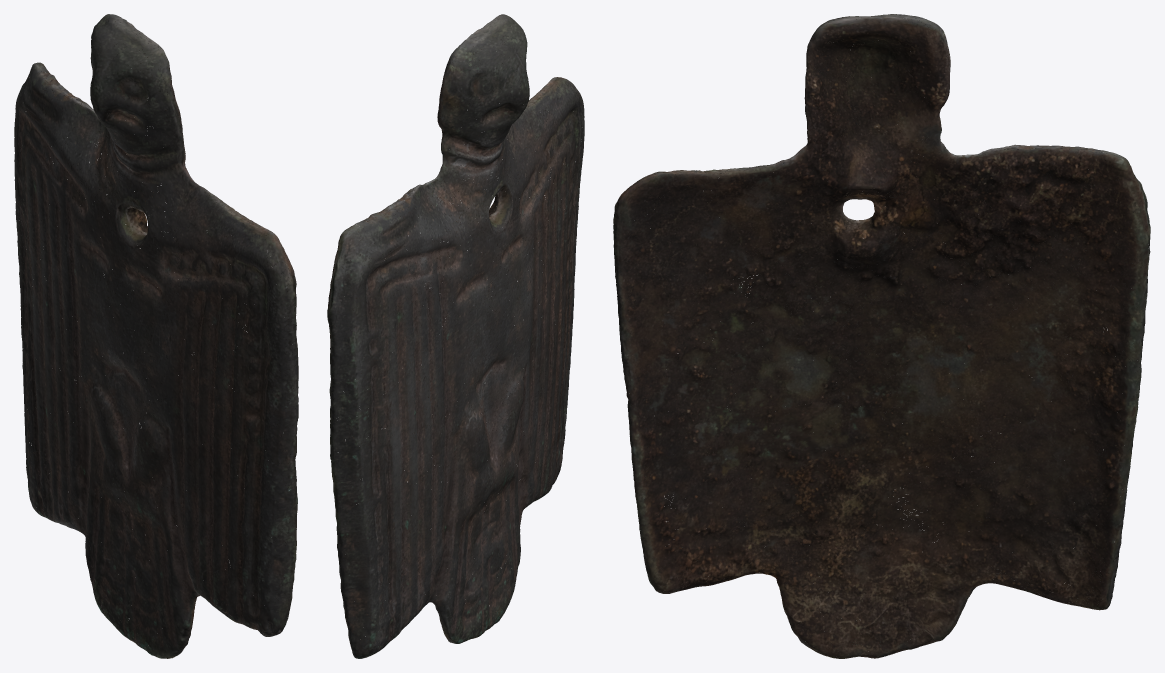
Rendered from bird2_low.glb.
3 renders of one model, left to right at view 1: azimuth 30°, elevation 25°; view 2: azimuth 150°, elevation 25°; view 3: azimuth 270°, elevation 25°, orthographic. The views are drawn at different scales.
Visible parts, largest first — view 1: Model; view 2: Model; view 3: Model.
Part boxes in pixels (x1,y1,x2,y2): Model: [14, 14, 298, 658]; Model: [327, 14, 584, 658]; Model: [613, 14, 1150, 658].
Size of the model in its own units: 0.1929 by 1.25 by 0.9553.
1 material, 1 textured.
